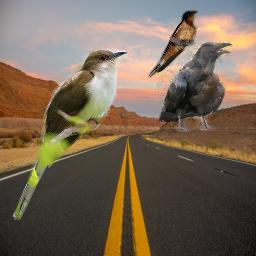Crow: (157, 41, 233, 132)
Cuckoo: (12, 48, 128, 220)
Swallow: (146, 9, 199, 78)
